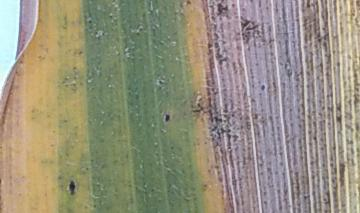tarspot: (67, 178, 76, 197), (164, 113, 171, 123), (260, 84, 266, 91)
